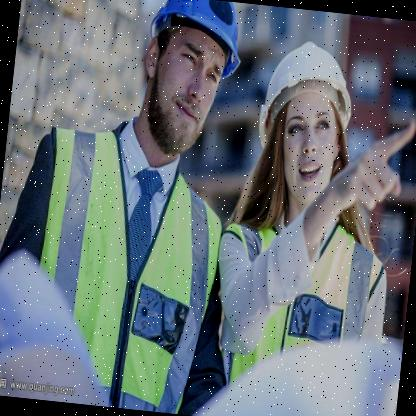capacete: (129, 0, 248, 160), (250, 34, 360, 204)
colete_refletivo: (0, 113, 234, 415), (199, 196, 397, 415)
